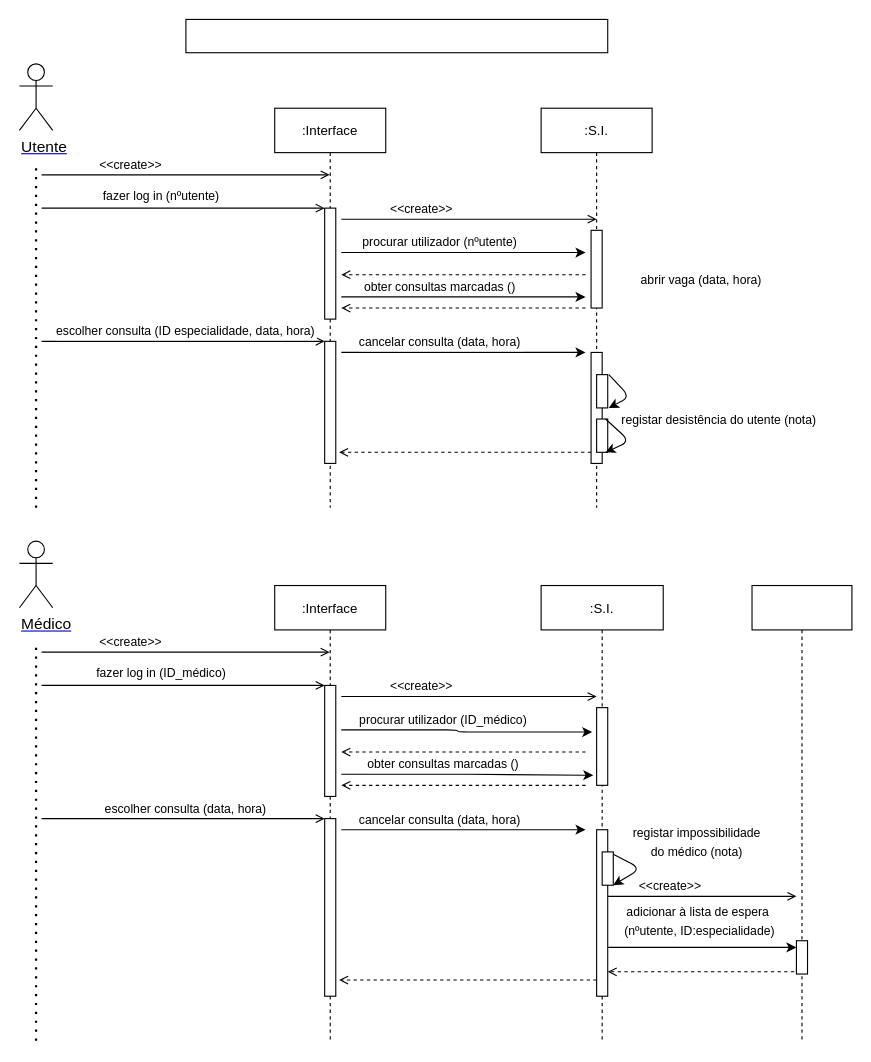
The diagram is 871 pixels wide and 1062 high, and some of its shapes have lost their labels. The shapes that lost their labels are listed below. From the top down, each one's box as (x1, y1, x2, y2) in pixels, then its label:
(185, 18, 608, 53): Diagrama de Sequência - Desmarcar Consulta
(751, 584, 852, 1041): :Lista de Espera
